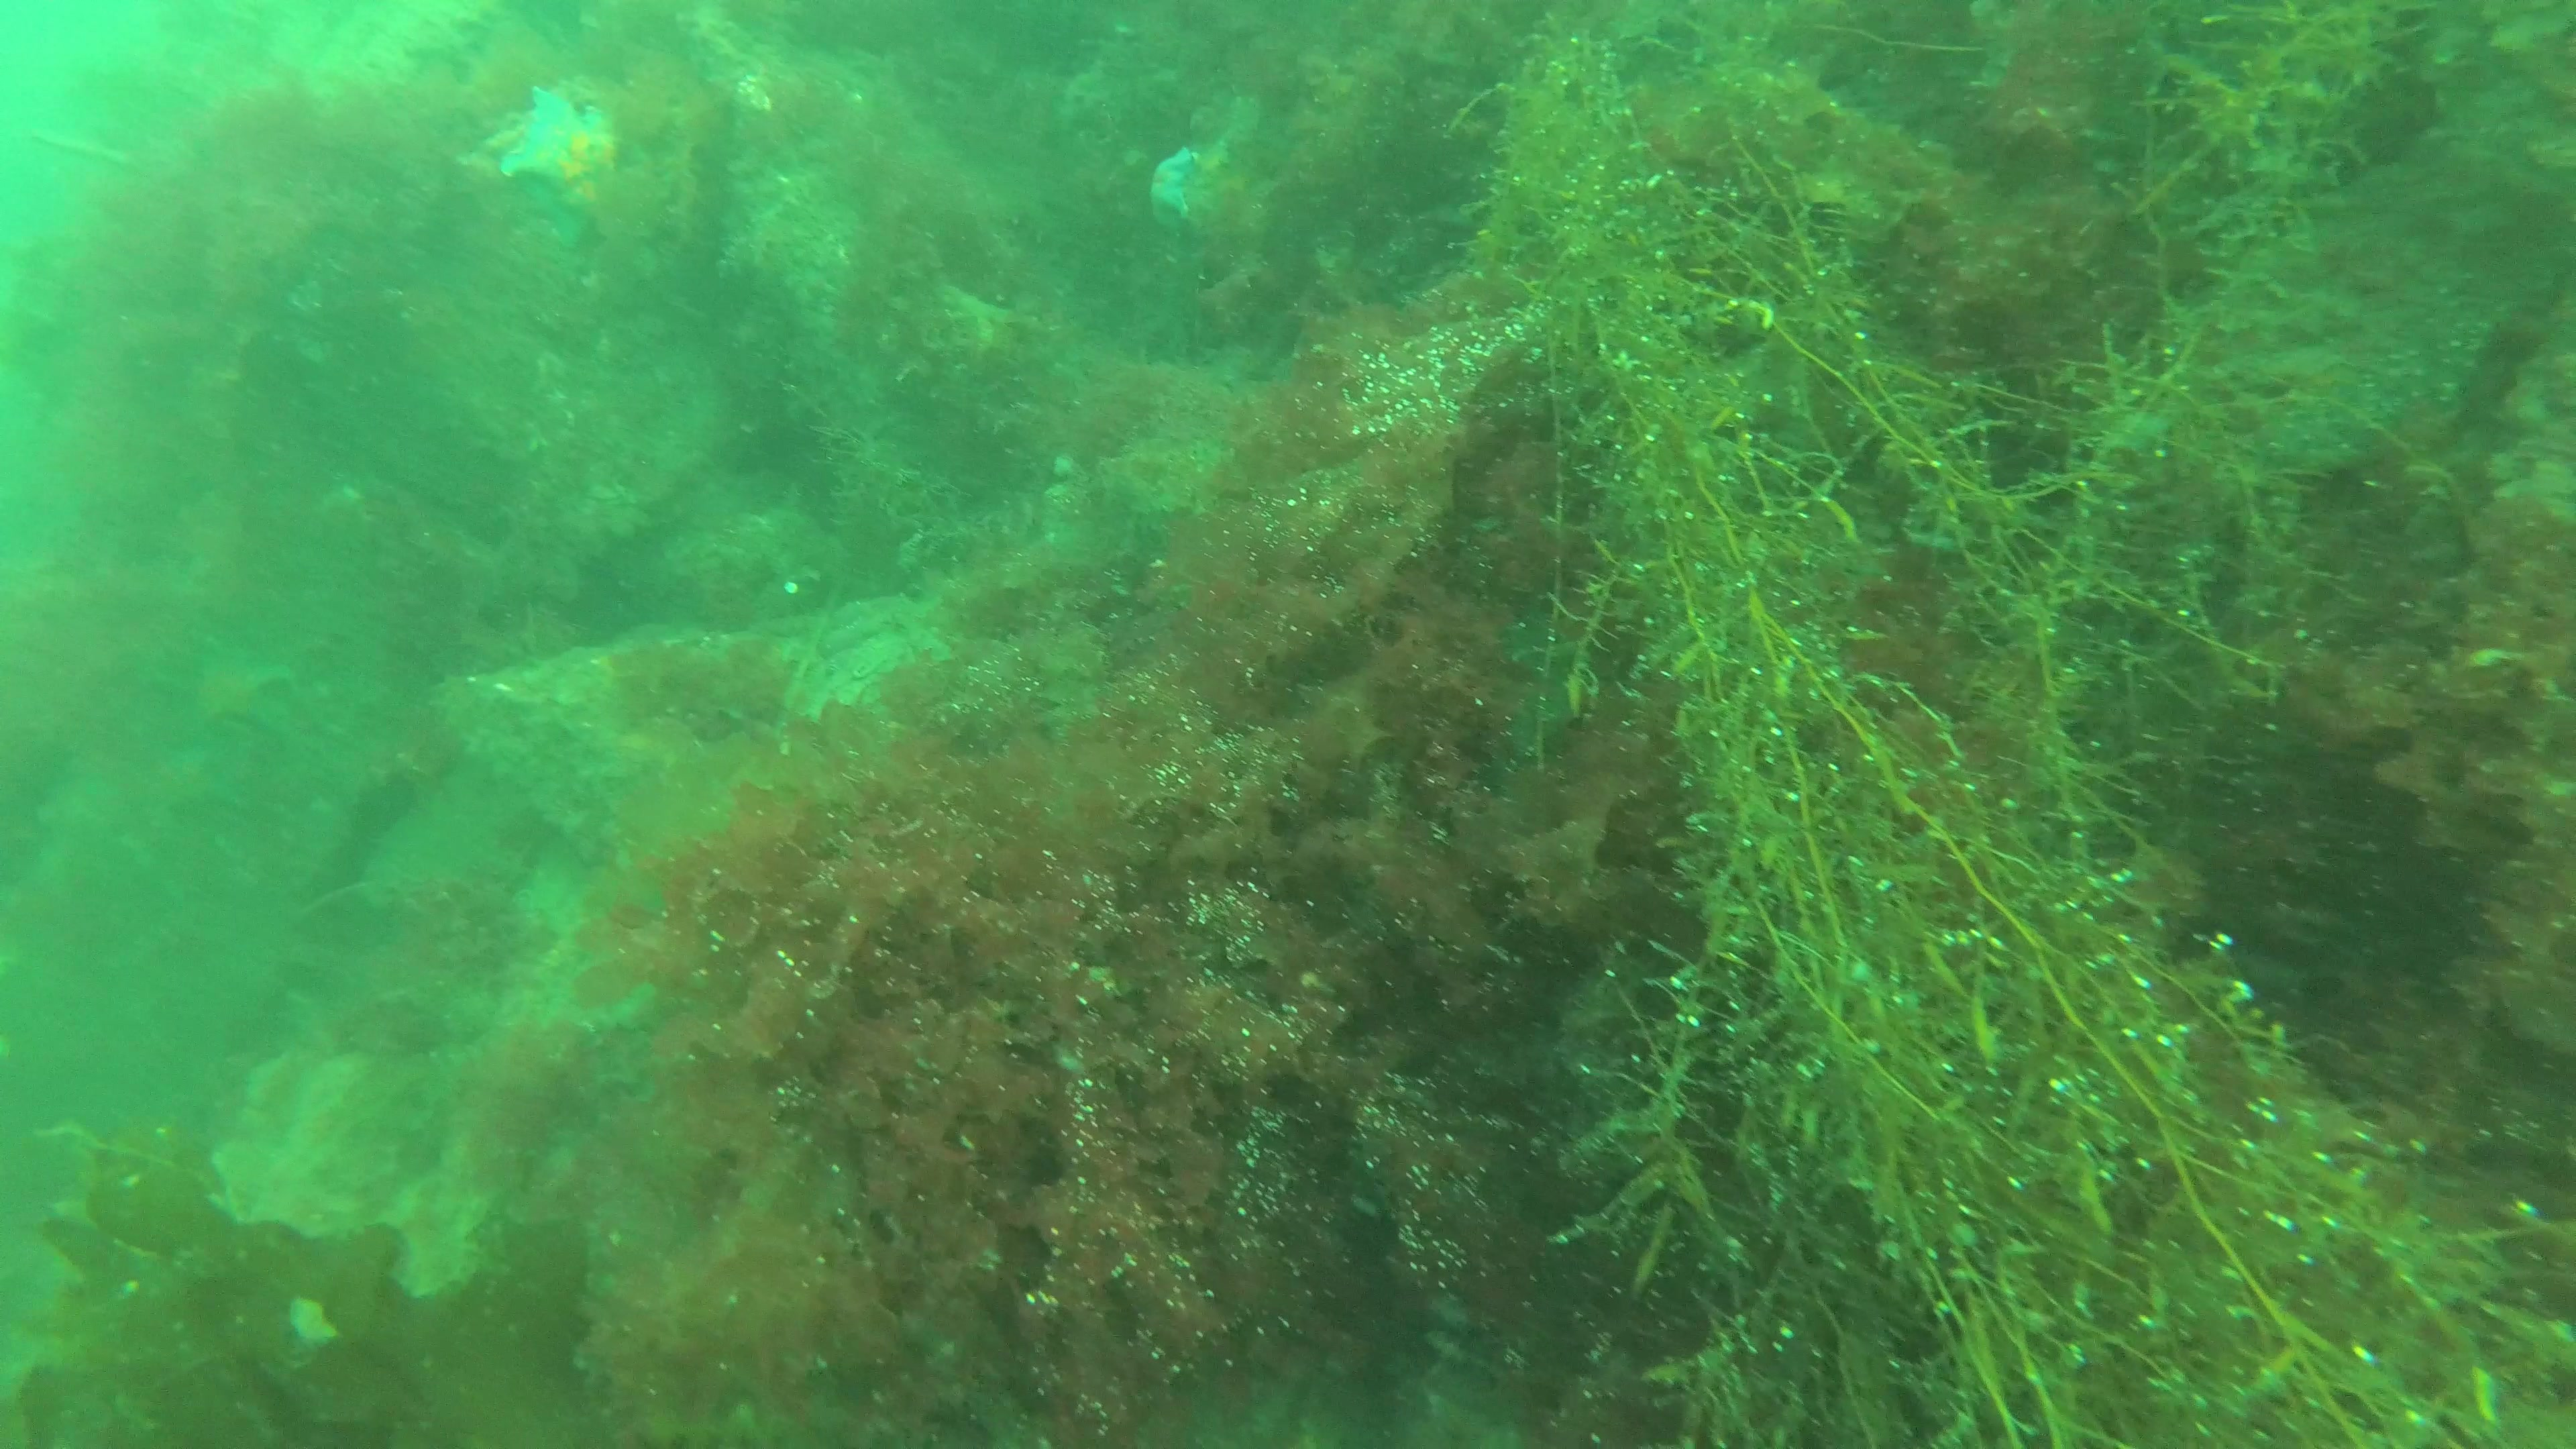starfish: (497, 83, 619, 209), (1146, 147, 1194, 223)
